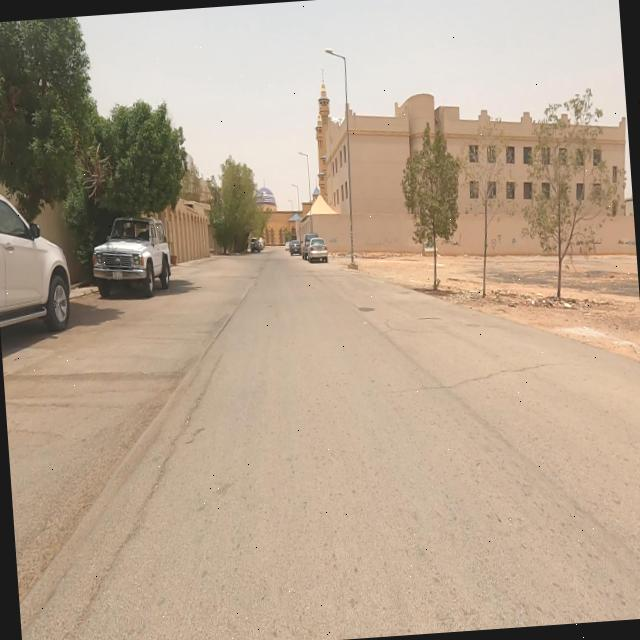Graffiti: (368, 236, 401, 249), (437, 240, 463, 251), (491, 233, 504, 251), (619, 237, 636, 249), (330, 236, 339, 245), (512, 239, 518, 249)
